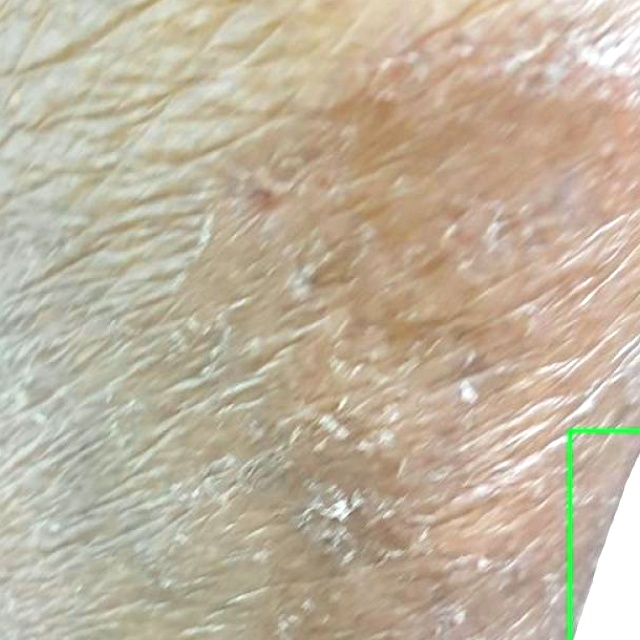Tinea Corporis: (570, 430, 639, 639)
